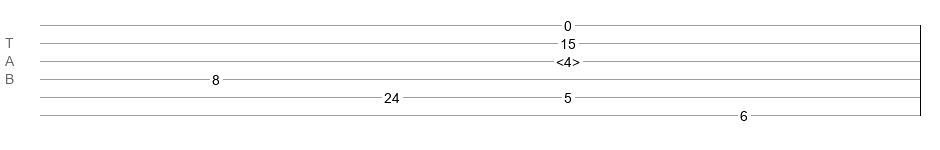0: (564, 18, 572, 28)
15: (560, 36, 576, 46)
24: (384, 90, 400, 100)
5: (564, 90, 572, 100)
6: (740, 108, 748, 118)
8: (212, 72, 220, 82)
harmonic: (556, 54, 580, 64)
